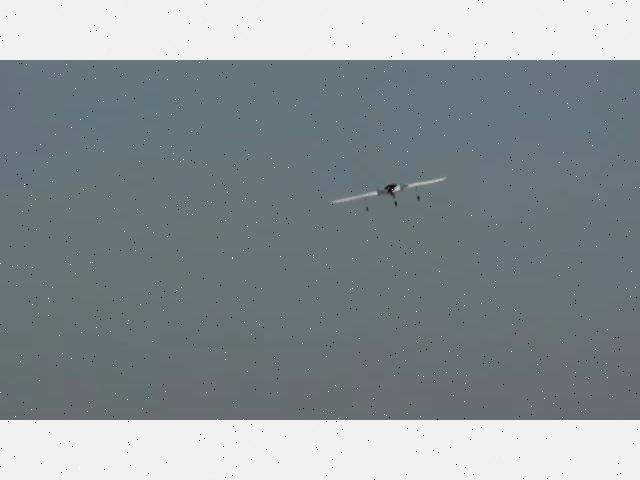Anti-Drone: (328, 176, 444, 203)
